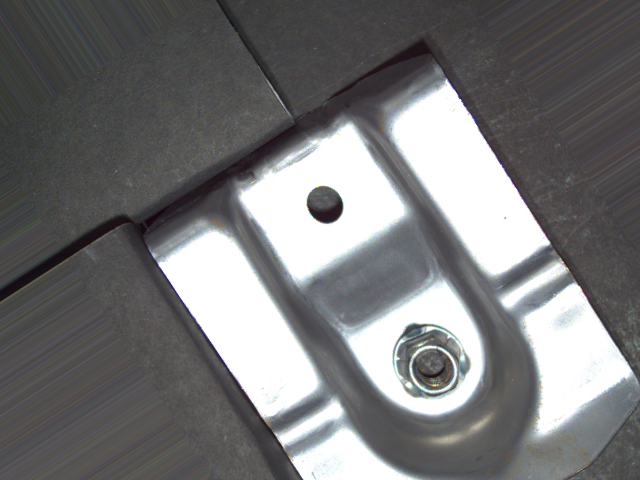good: (388, 315, 476, 402)
